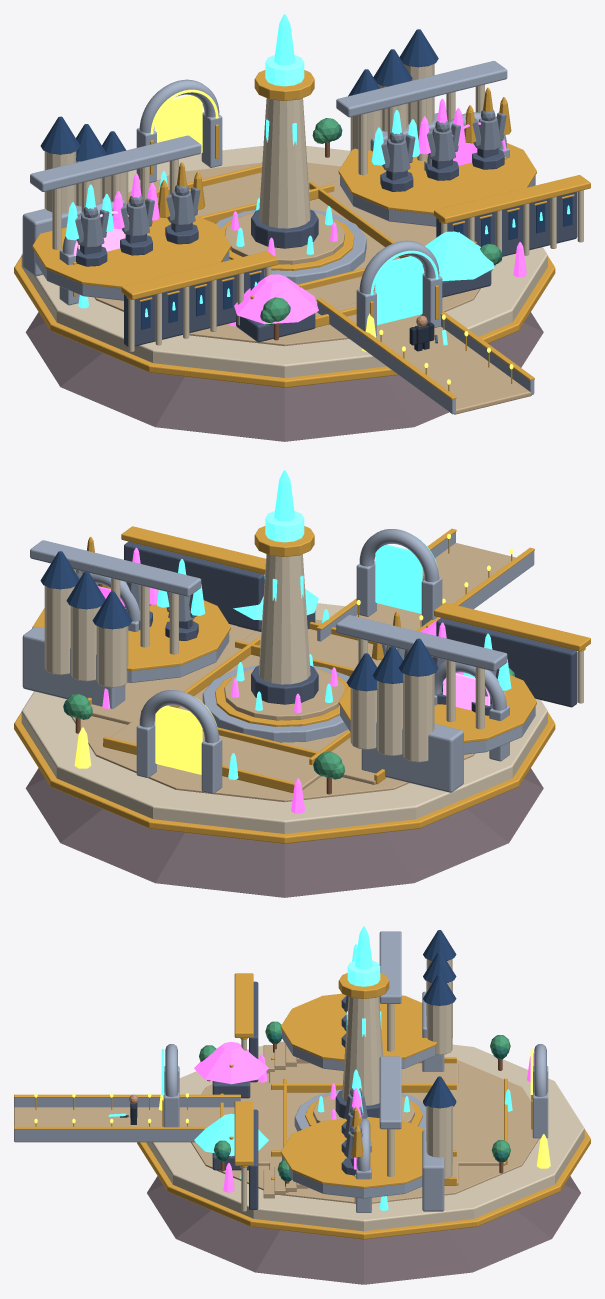
File: Prismora_Capital_V2.fbx
3 renders of one model, top to bottom at view 1: azimuth 30°, elevation 25°; view 2: azimuth 150°, elevation 25°; view 3: azimuth 270°, elevation 25°, orthographic. The views are drawn at different scales.
Parts seen in each view (by area): view 1: Empire_ImperialGold, Empire_CreamStone, Empire_PaleStone, Empire_FloatingRock, Empire_WarmTile, Empire_DarkStone, Empire_CyanEnergy, Empire_ImperialNavy, Empire_HeroStone, Empire_MagentaEnergy, Empire_GoldEnergy, Empire_EmeraldLeaves (+2 smaller); view 2: Empire_CreamStone, Empire_PaleStone, Empire_FloatingRock, Empire_ImperialGold, Empire_WarmTile, Empire_DarkStone, Empire_CyanEnergy, Empire_ImperialNavy, Empire_GoldEnergy, Empire_MagentaEnergy, Empire_EmeraldLeaves, Empire_PrismGlass (+2 smaller); view 3: Empire_ImperialGold, Empire_CreamStone, Empire_WarmTile, Empire_FloatingRock, Empire_PaleStone, Empire_DarkStone, Empire_MagentaEnergy, Empire_CyanEnergy, Empire_ImperialNavy, Empire_EmeraldLeaves, Empire_HeroStone, Empire_GoldEnergy (+2 smaller).
Boxes of the visible parts, x1,y1,x2,y2 form: Empire_ImperialGold: (14,70,590,399); Empire_CreamStone: (21,63,583,377); Empire_PaleStone: (22,61,535,414); Empire_FloatingRock: (25,312,543,441); Empire_WarmTile: (94,162,531,414); Empire_DarkStone: (76,148,577,346); Empire_CyanEnergy: (65,14,570,345); Empire_ImperialNavy: (40,29,572,329); Empire_HeroStone: (75,110,506,247); Empire_MagentaEnergy: (112,98,526,326); Empire_GoldEnergy: (150,89,513,384); Empire_EmeraldLeaves: (260,118,499,325); Empire_CreamStone: (21,554,583,833); Empire_PaleStone: (22,529,535,793); Empire_FloatingRock: (25,768,543,897); Empire_ImperialGold: (14,526,590,843); Empire_WarmTile: (71,543,515,802); Empire_DarkStone: (124,541,577,715); Empire_CyanEnergy: (157,470,511,779); Empire_ImperialNavy: (40,551,438,691); Empire_GoldEnergy: (74,534,513,774); Empire_MagentaEnergy: (98,547,463,813); Empire_EmeraldLeaves: (66,668,514,779); Empire_PrismGlass: (265,511,304,542); Empire_ImperialGold: (14,973,590,1239); Empire_CreamStone: (146,959,584,1231); Empire_WarmTile: (14,1041,539,1203); Empire_FloatingRock: (147,1176,580,1284); Empire_PaleStone: (14,931,548,1212); Empire_DarkStone: (120,981,379,1209); Empire_MagentaEnergy: (194,1042,534,1192); Empire_CyanEnergy: (108,926,512,1210); Empire_ImperialNavy: (423,930,456,1108); Empire_EmeraldLeaves: (199,1021,510,1176); Empire_HeroStone: (344,996,367,1159); Empire_GoldEnergy: (34,1048,550,1168).
Size of the model in its own units: 147 by 93.33 by 183.
